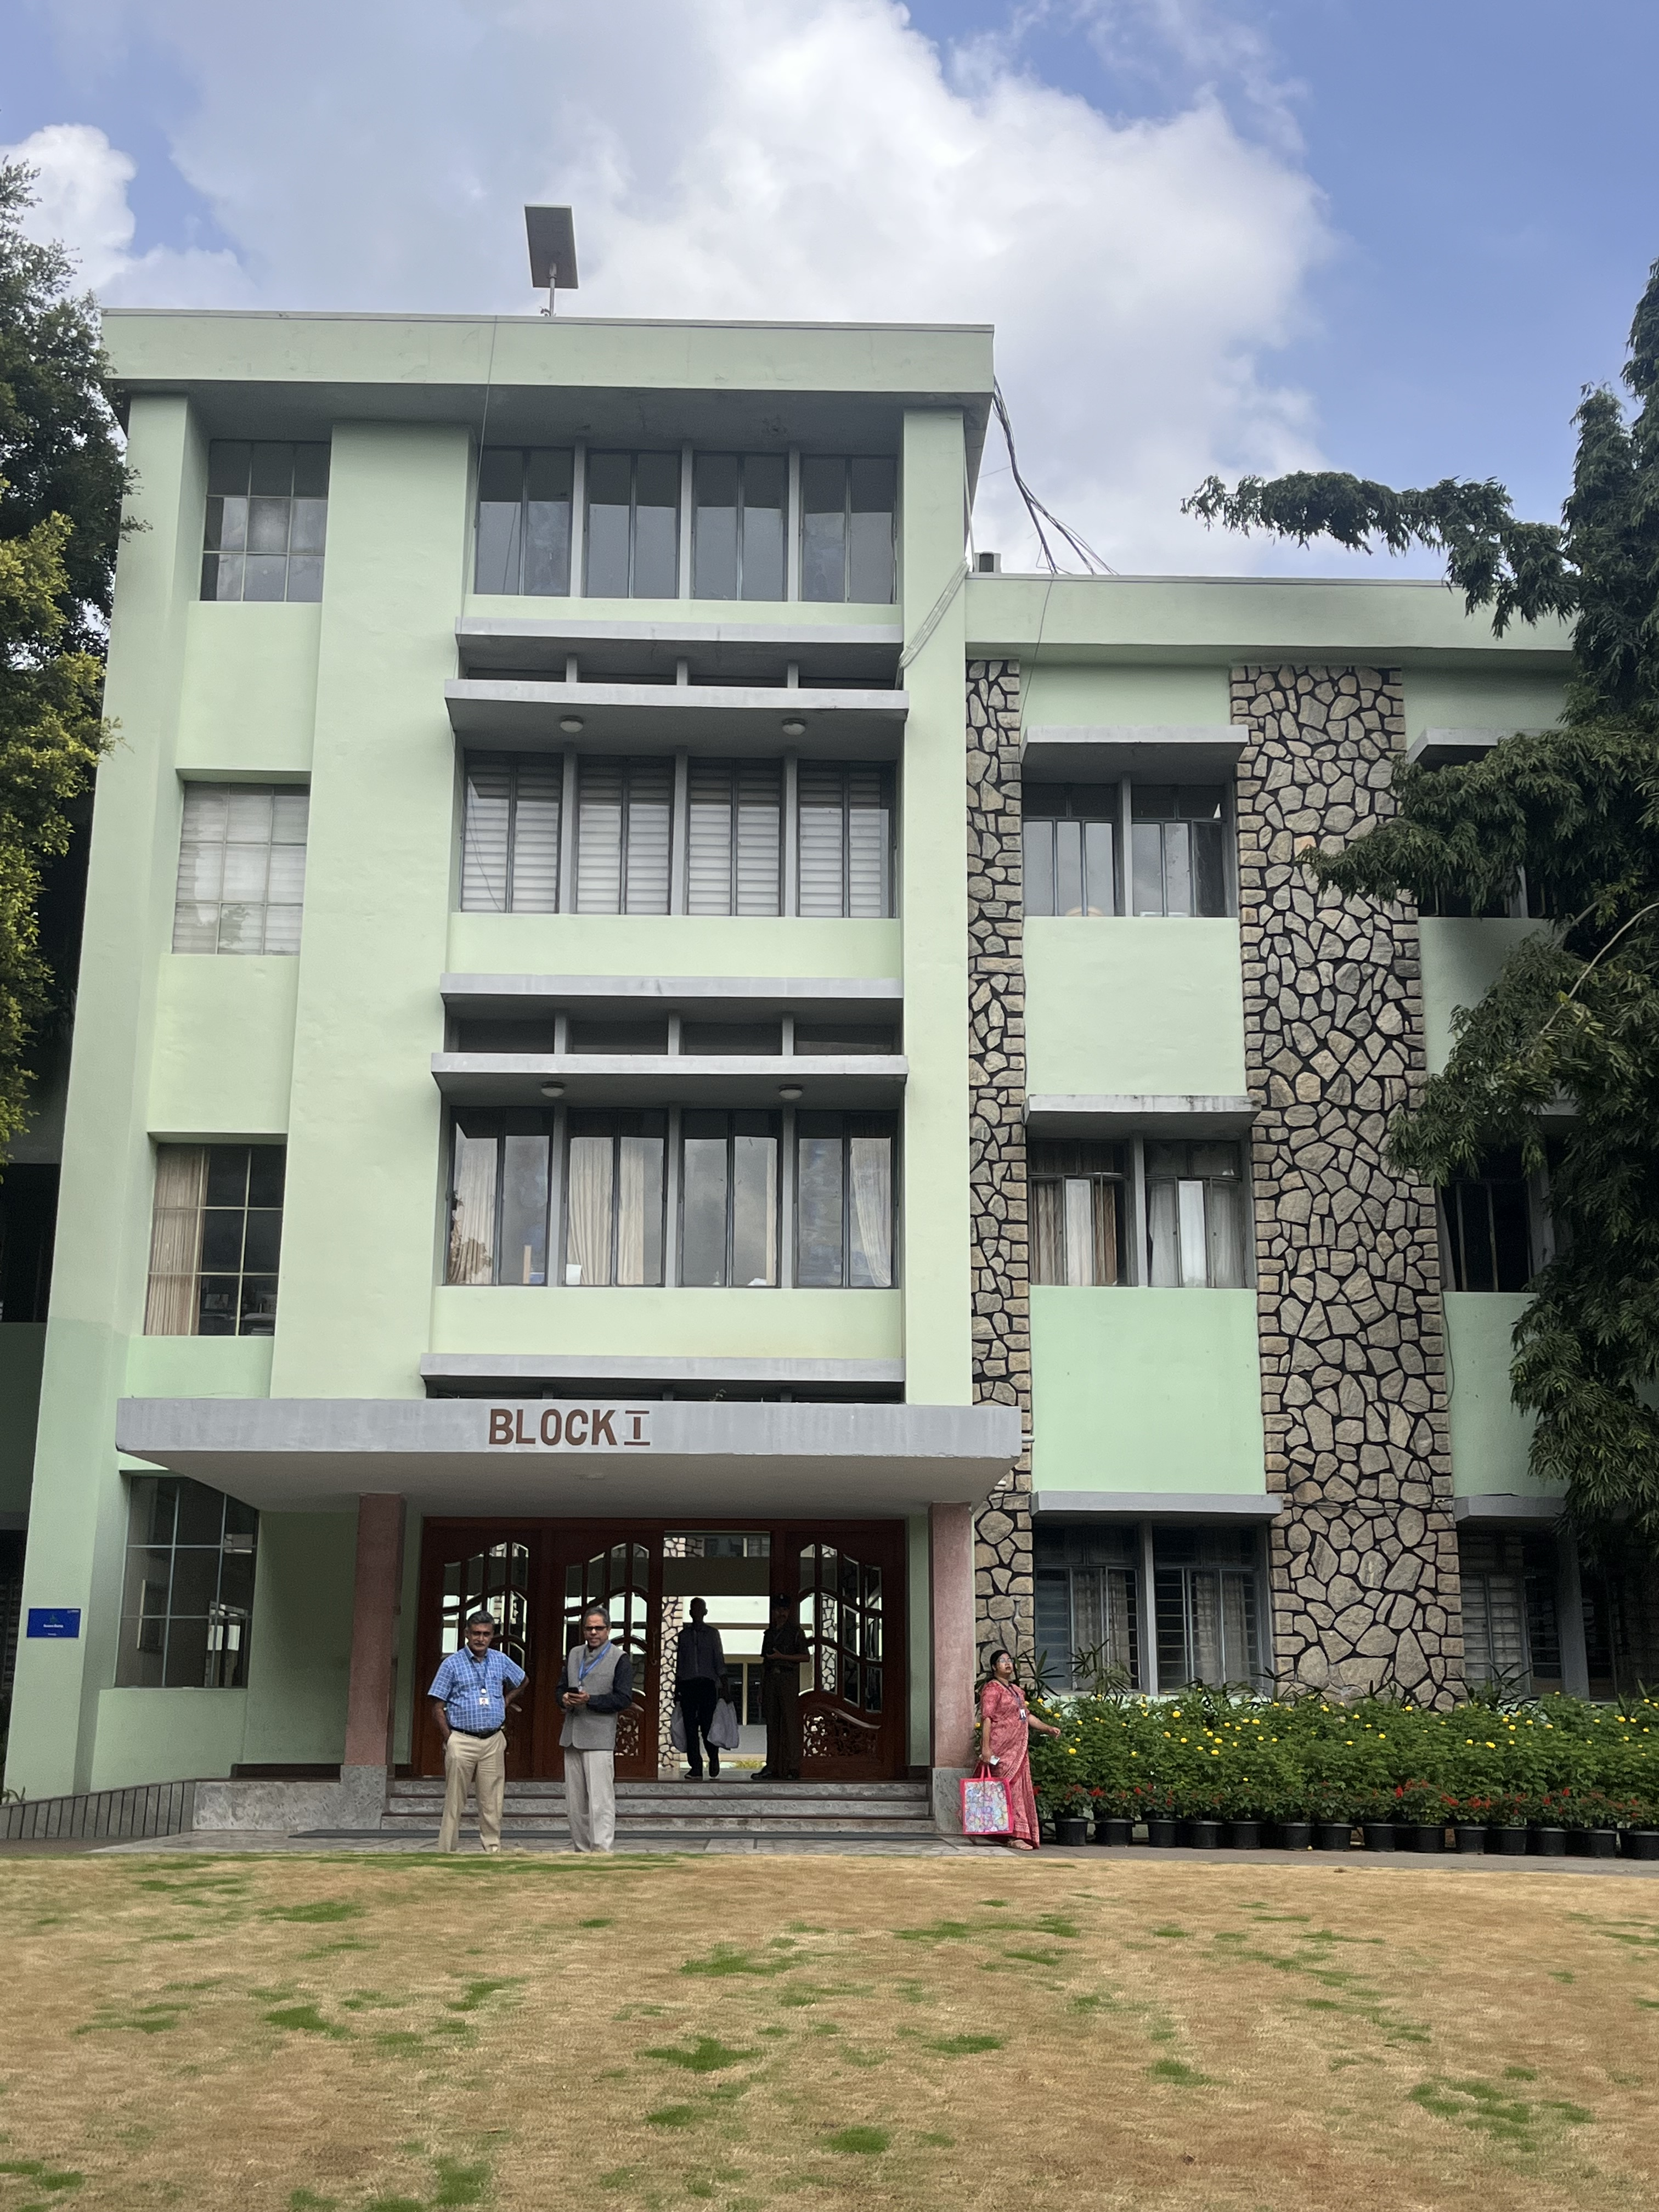Block 1: (103, 293, 1659, 1893)
